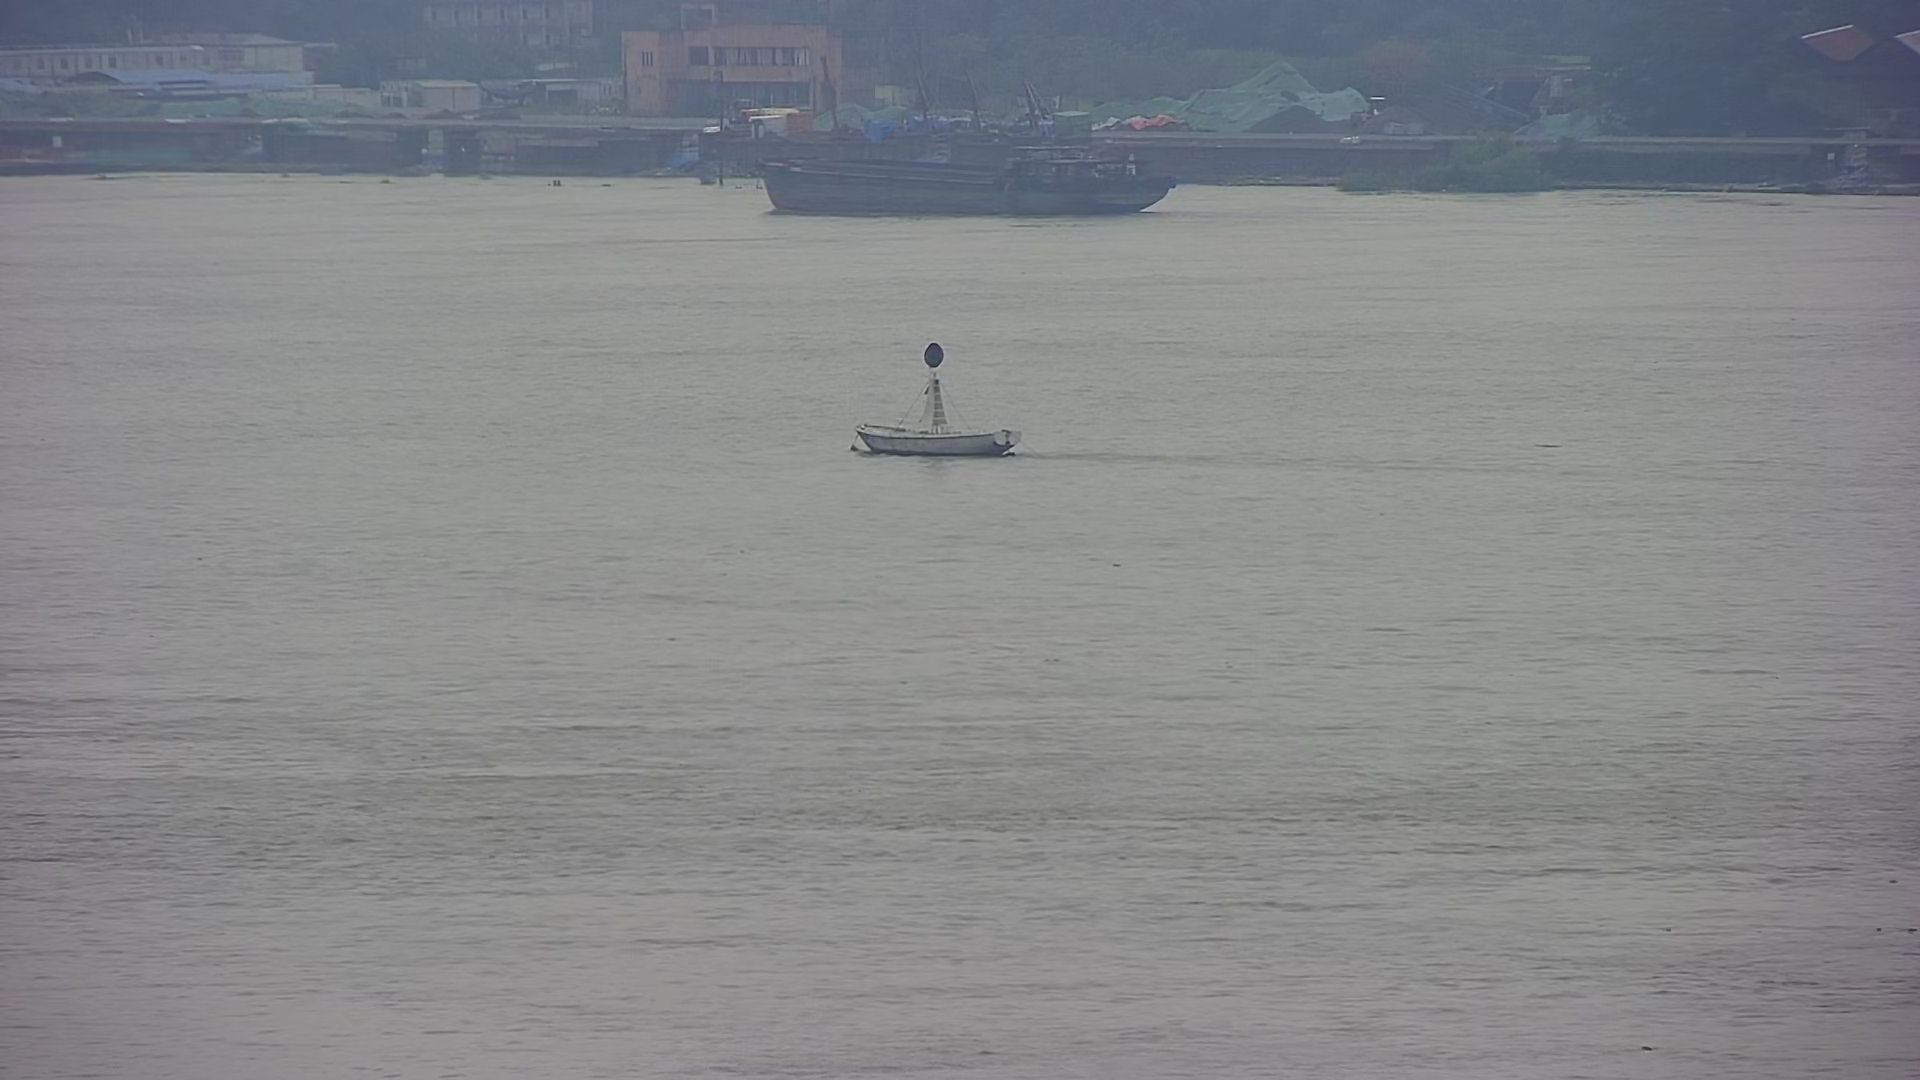boat: (848, 344, 1025, 465)
ship: (758, 129, 1178, 211)
